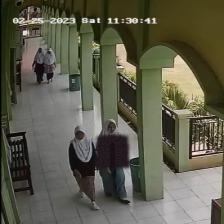Cadar_Niqab: (95, 118, 129, 167)
